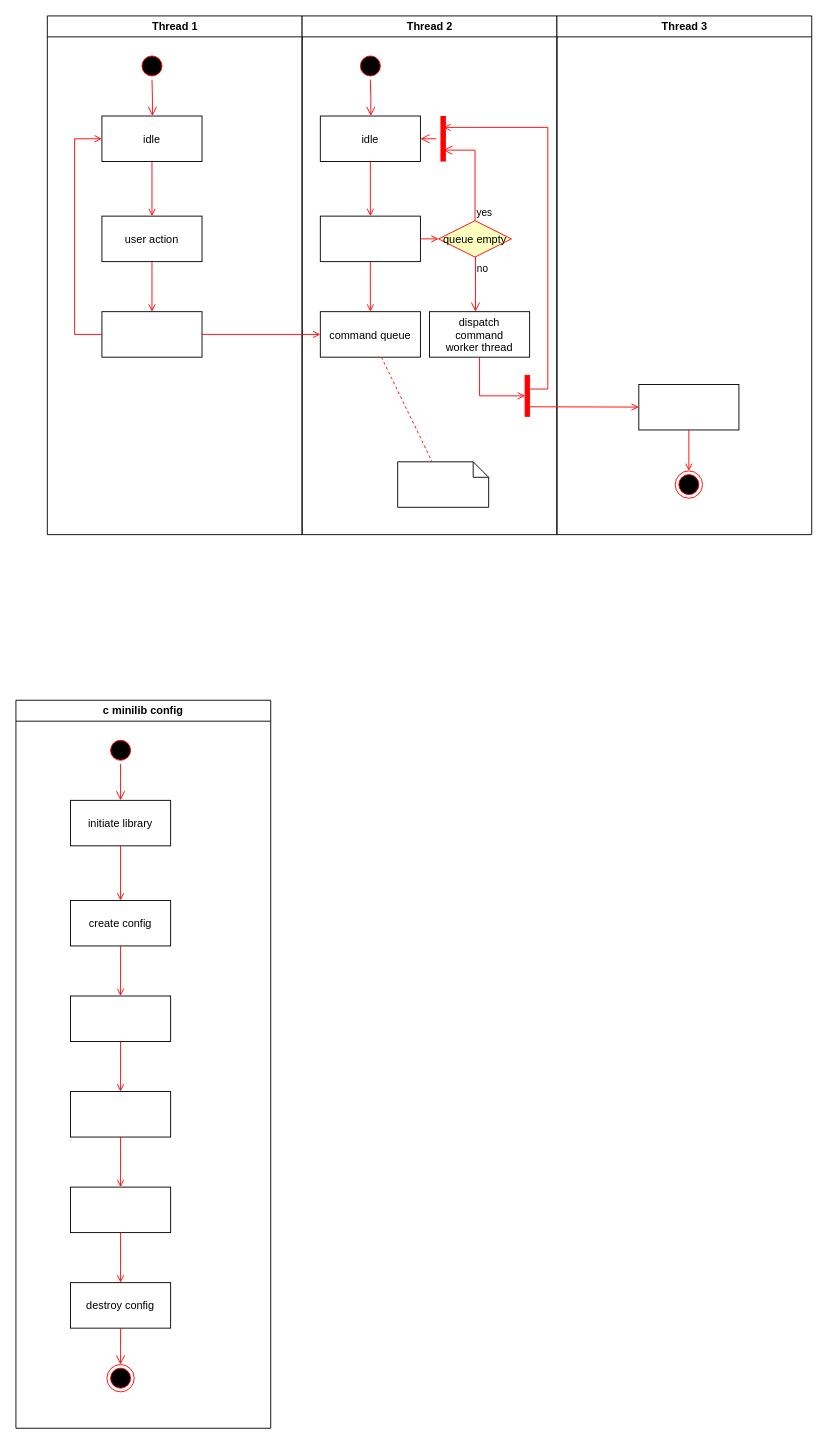
Some shapes in this 828 by 1444 pixel diagram are drawn without their labels. The centre of each missing label's shape, as x and y in pixels:
add fields: the point at 120,1018
check for new commands: the point at 369,238
critical section: the point at 443,484
parse_config: the point at 120,1114
post command: the point at 151,334
process command: the point at 688,407
use config (get funcs): the point at 120,1209
